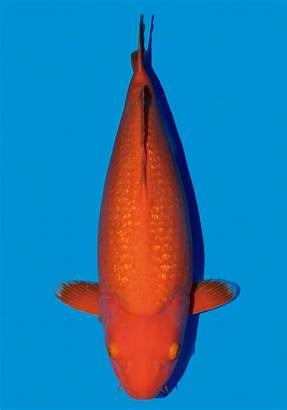red: (54, 15, 241, 400)
